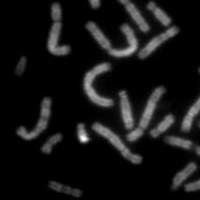chromosome: (127, 85, 163, 142), (93, 124, 142, 164), (87, 20, 138, 57), (17, 96, 52, 140), (103, 0, 150, 32), (82, 61, 114, 106), (139, 26, 179, 59), (47, 2, 71, 55), (182, 79, 200, 132), (166, 134, 200, 160), (170, 162, 196, 192), (149, 114, 174, 140), (117, 91, 134, 129), (49, 179, 82, 198), (147, 0, 170, 26), (42, 133, 62, 152), (13, 53, 28, 78), (74, 123, 89, 145), (185, 169, 200, 191), (77, 0, 101, 8), (198, 65, 200, 114), (197, 118, 200, 137)
